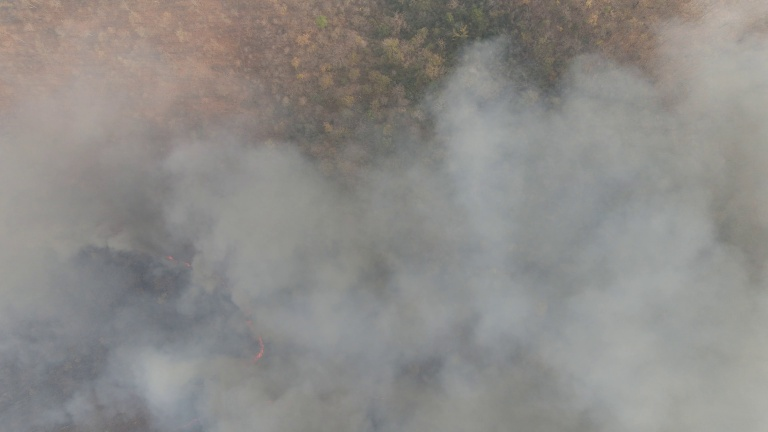fire: (220, 306, 269, 369), (167, 252, 204, 280)
smoke: (162, 81, 768, 429)
